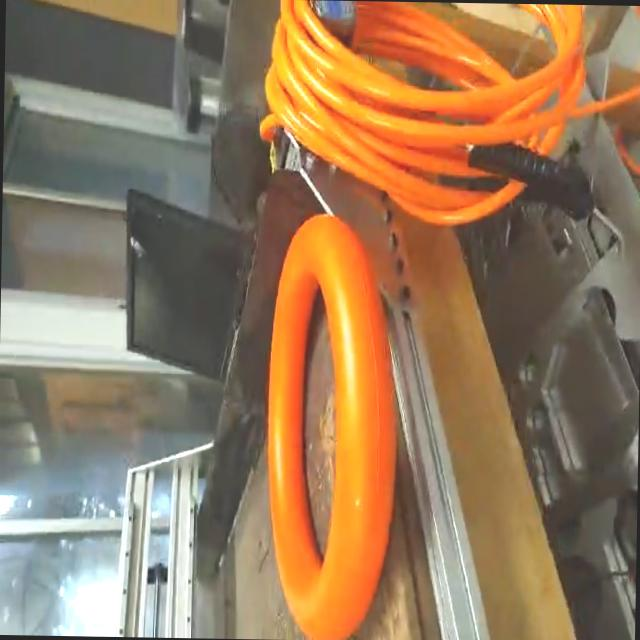note: (258, 207, 403, 640)
